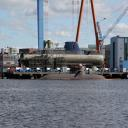submarine: (18, 43, 106, 67), (32, 68, 108, 80)
